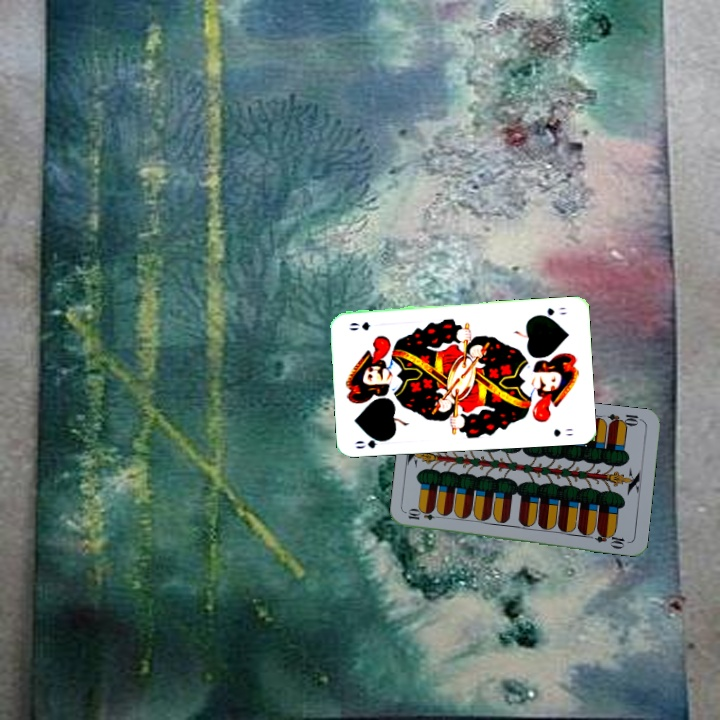E10: (604, 410, 645, 429), (404, 507, 445, 523)
GO: (351, 432, 391, 451), (533, 303, 569, 320)
